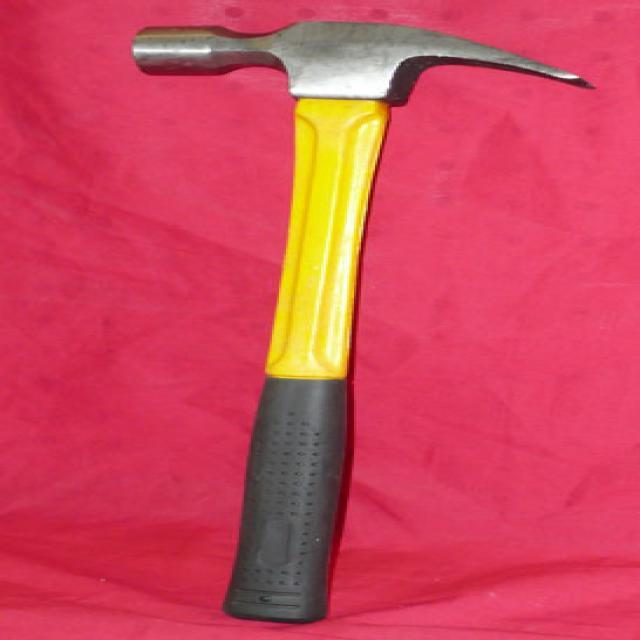hammer: (112, 14, 592, 622)
